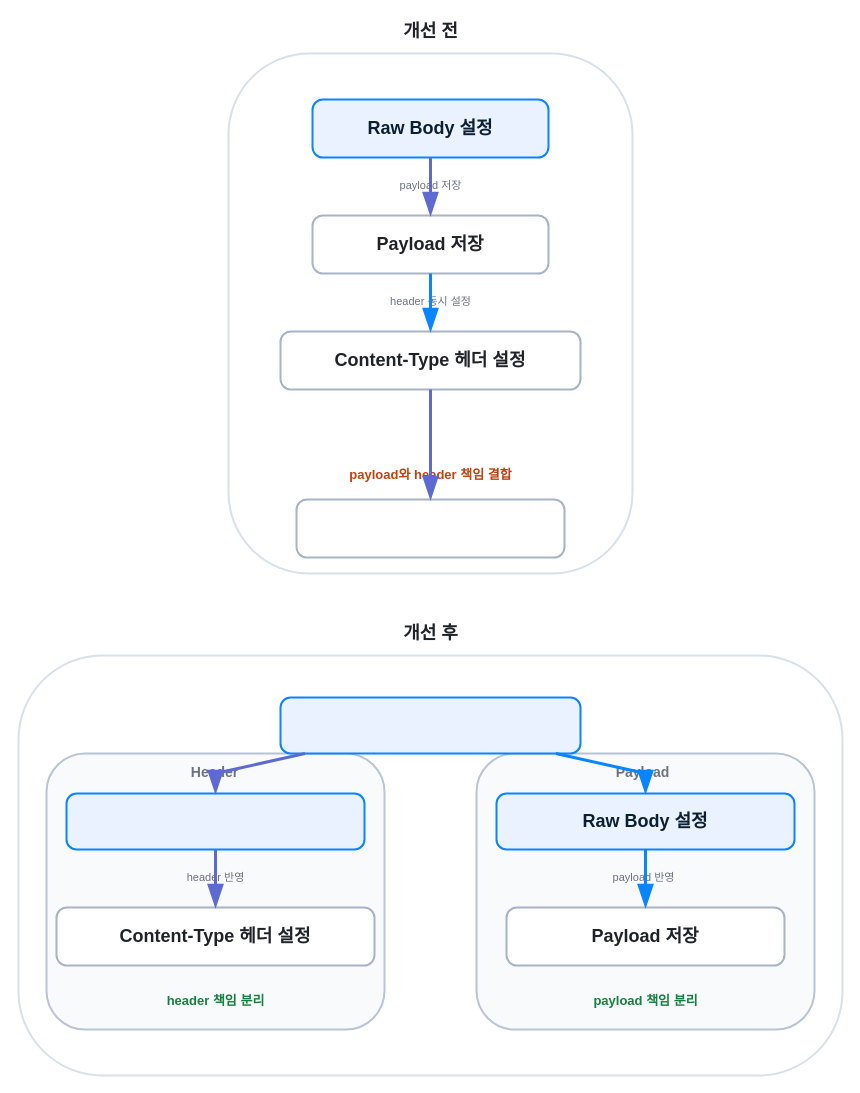
Image size: 860x1093. Some labels were removed from this diagram. Here are the shapes that lost their labels. From the top down, the box of each, then its label:
(295, 498, 565, 558): 설정 의도를 API 이름만으로 직관적으로 구분하기 어려움
(279, 696, 581, 754): Raw Body 요청 구성
(65, 792, 365, 850): Media Type 설정
